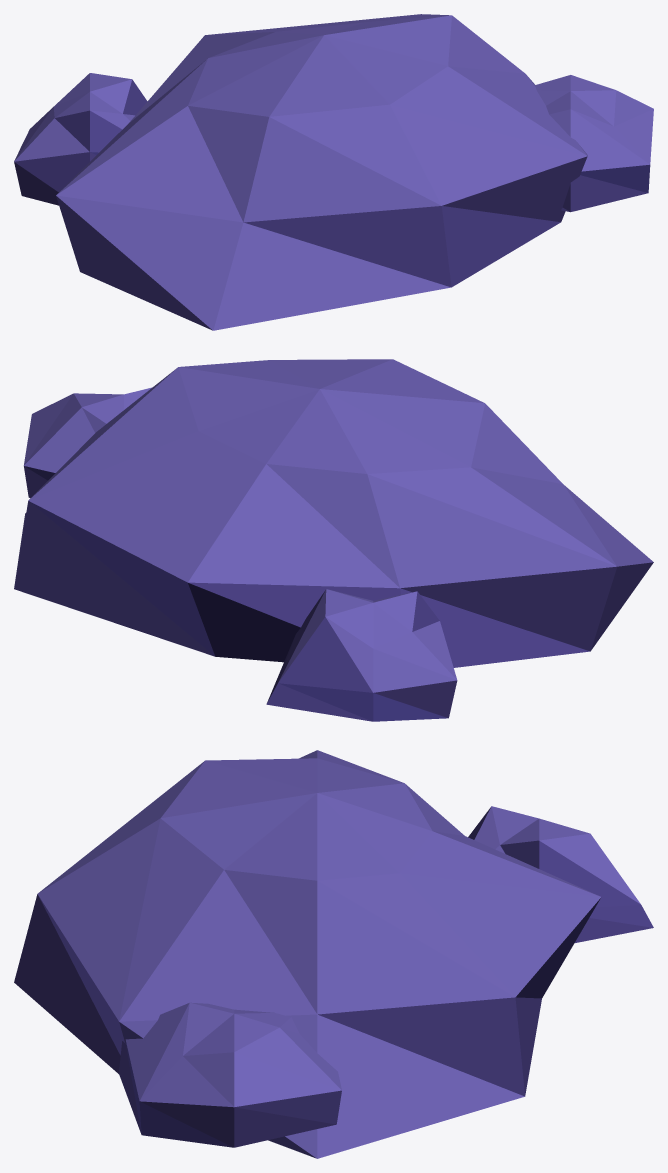
Rendered from Mine_Rock_Boulder_B.obj.
3 views of the same model, one above another, from view 1: azimuth 30°, elevation 25°; view 2: azimuth 150°, elevation 25°; view 3: azimuth 270°, elevation 25° (orthographic). The views are drawn at different scales.
Visible parts, largest first — view 1: Mine_Rock_Boulder_B; view 2: Mine_Rock_Boulder_B; view 3: Mine_Rock_Boulder_B.
Boxes of the visible parts, x1,y1,x2,y2 form: Mine_Rock_Boulder_B: [14, 14, 653, 330]; Mine_Rock_Boulder_B: [14, 359, 653, 721]; Mine_Rock_Boulder_B: [14, 750, 653, 1158].
Bounding box in the file's own units: 2.51 × 0.7589 × 2.08.
